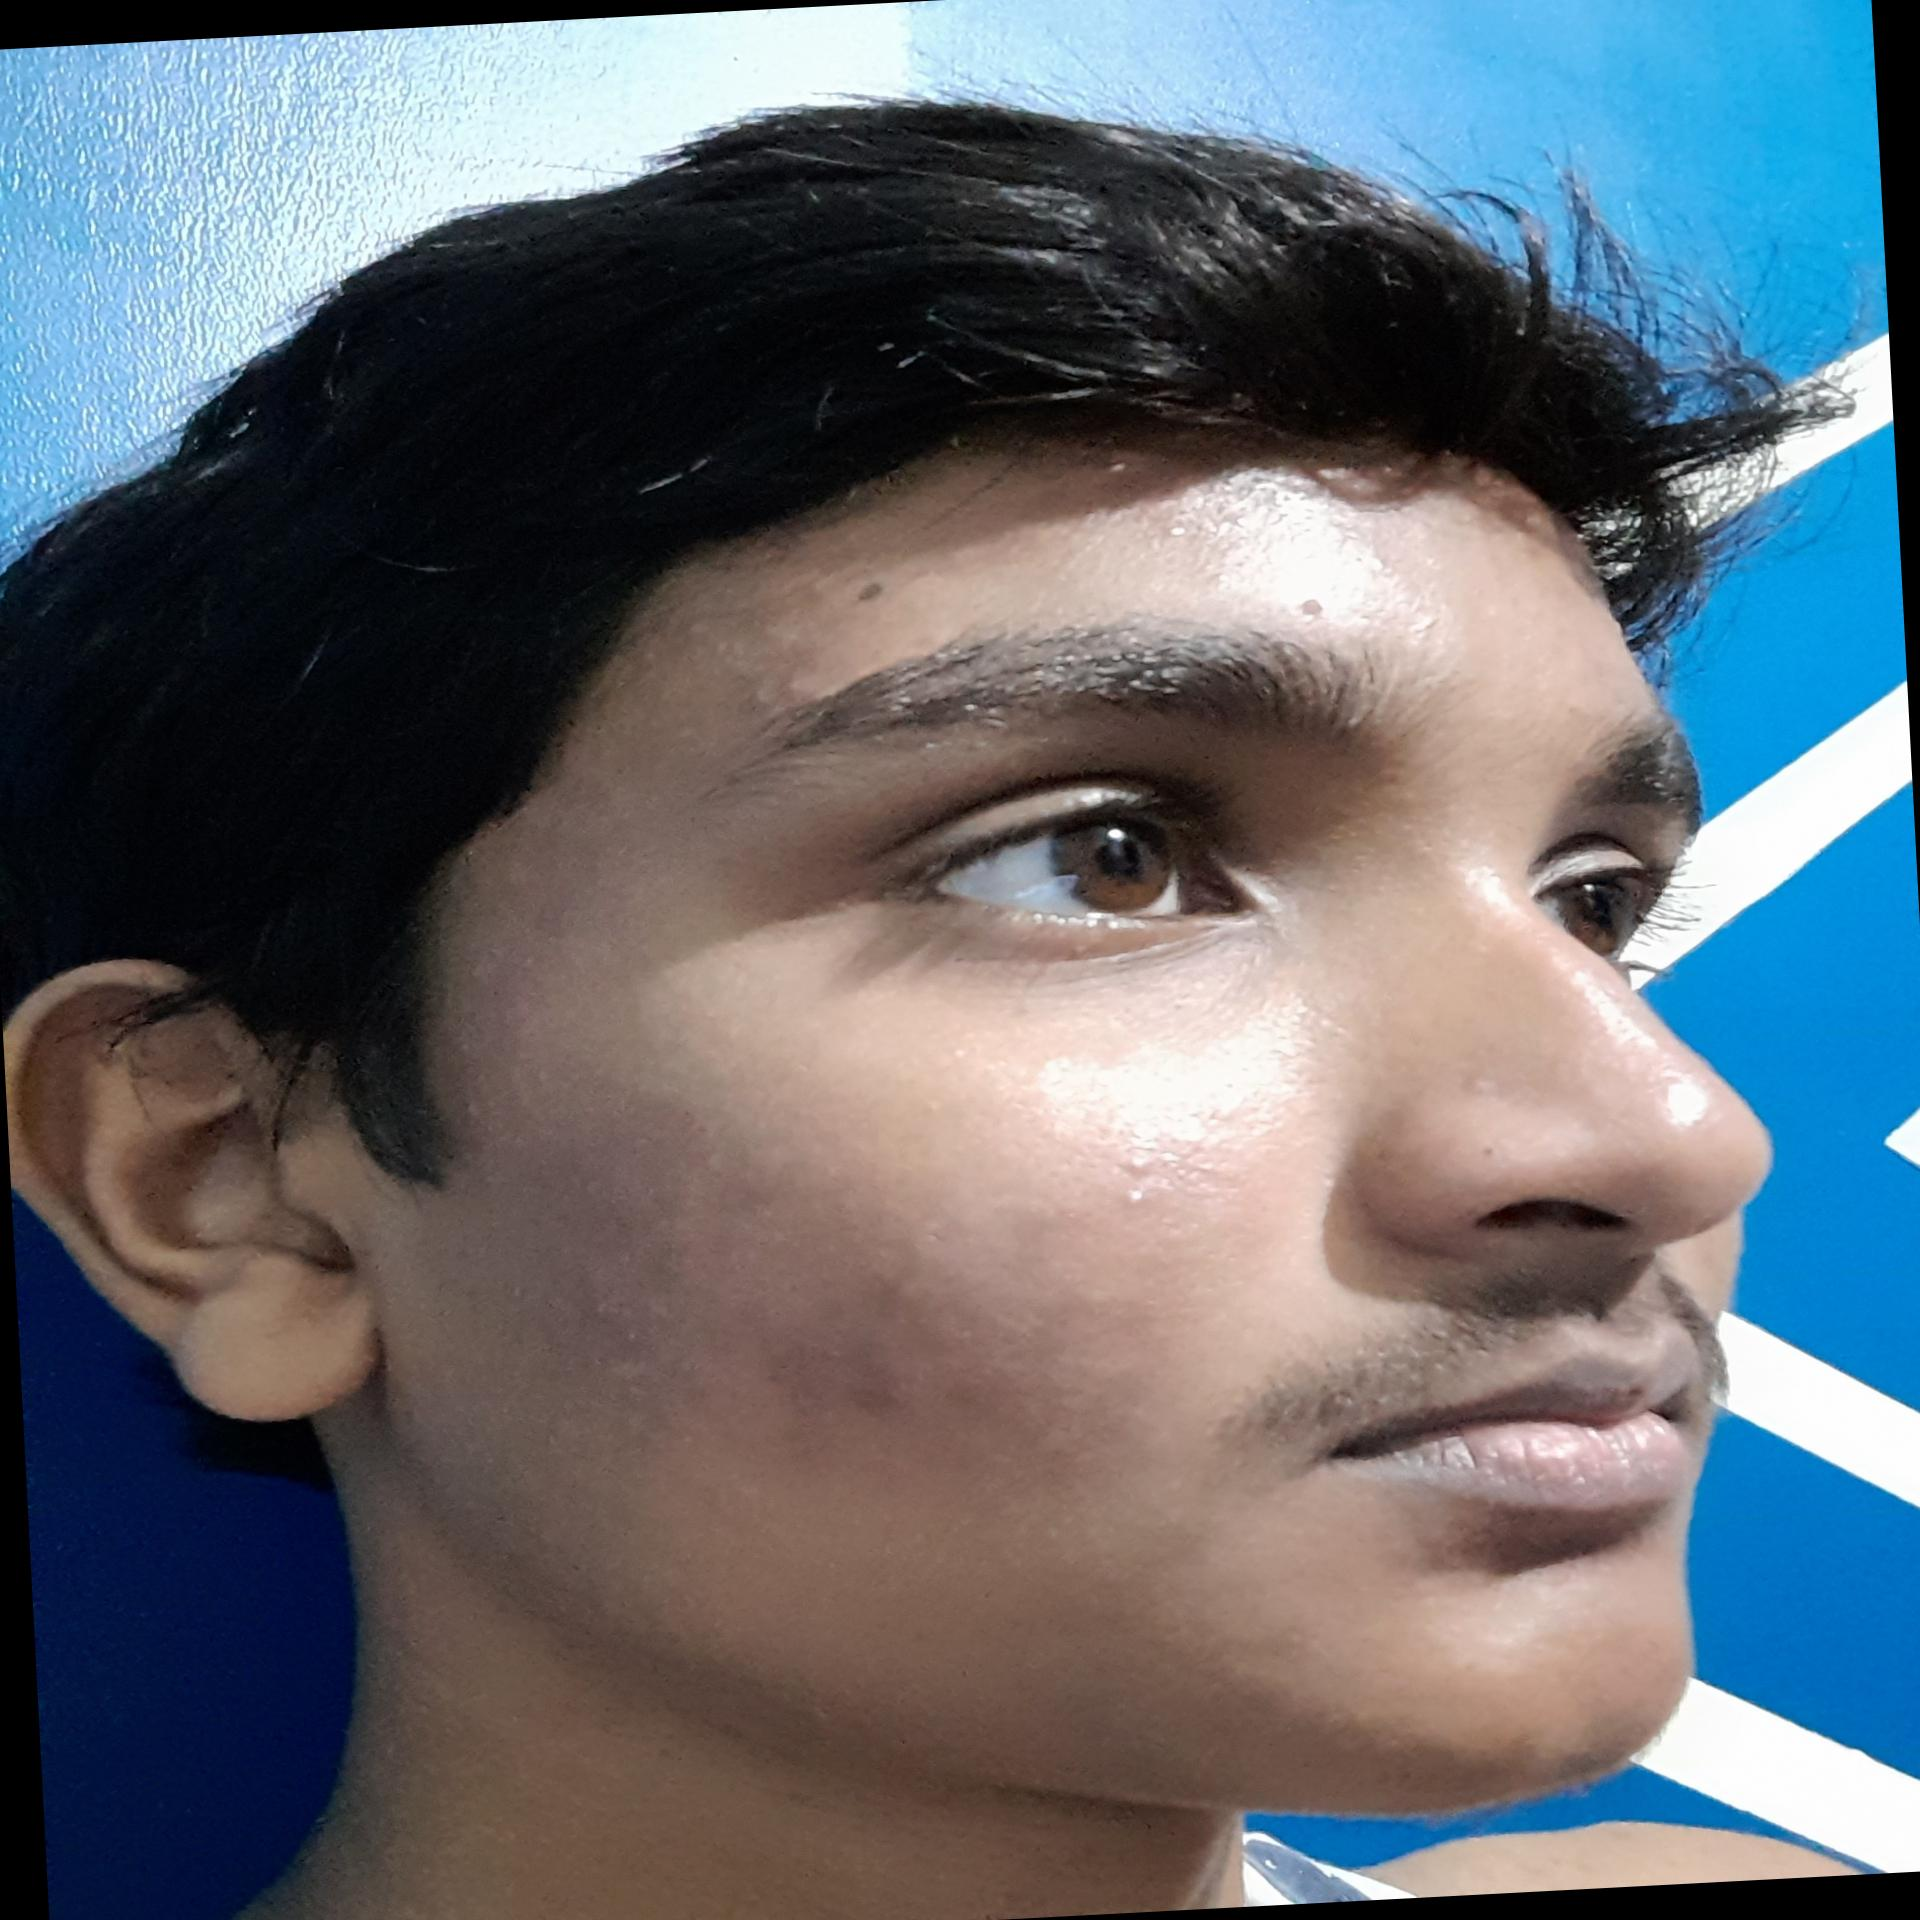Acne: (730, 661, 825, 717), (920, 1371, 999, 1431), (1115, 1141, 1178, 1213), (1280, 582, 1359, 626), (858, 1259, 923, 1305), (1456, 1058, 1507, 1106), (1152, 515, 1206, 545), (1363, 538, 1396, 580)
